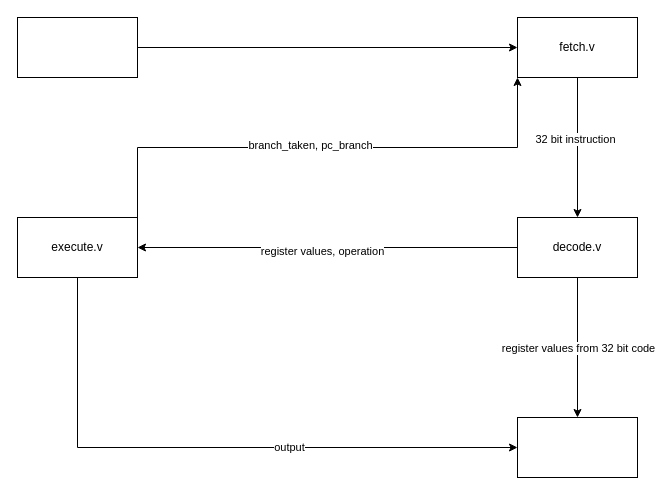
This 672x495 diagram has some shape labels left out. The shapes that lost their labels are listed below. From the top down, each one's centre as x and y in pixels, then its label:
(x=77, y=47): Memory
(x=577, y=447): register.v
